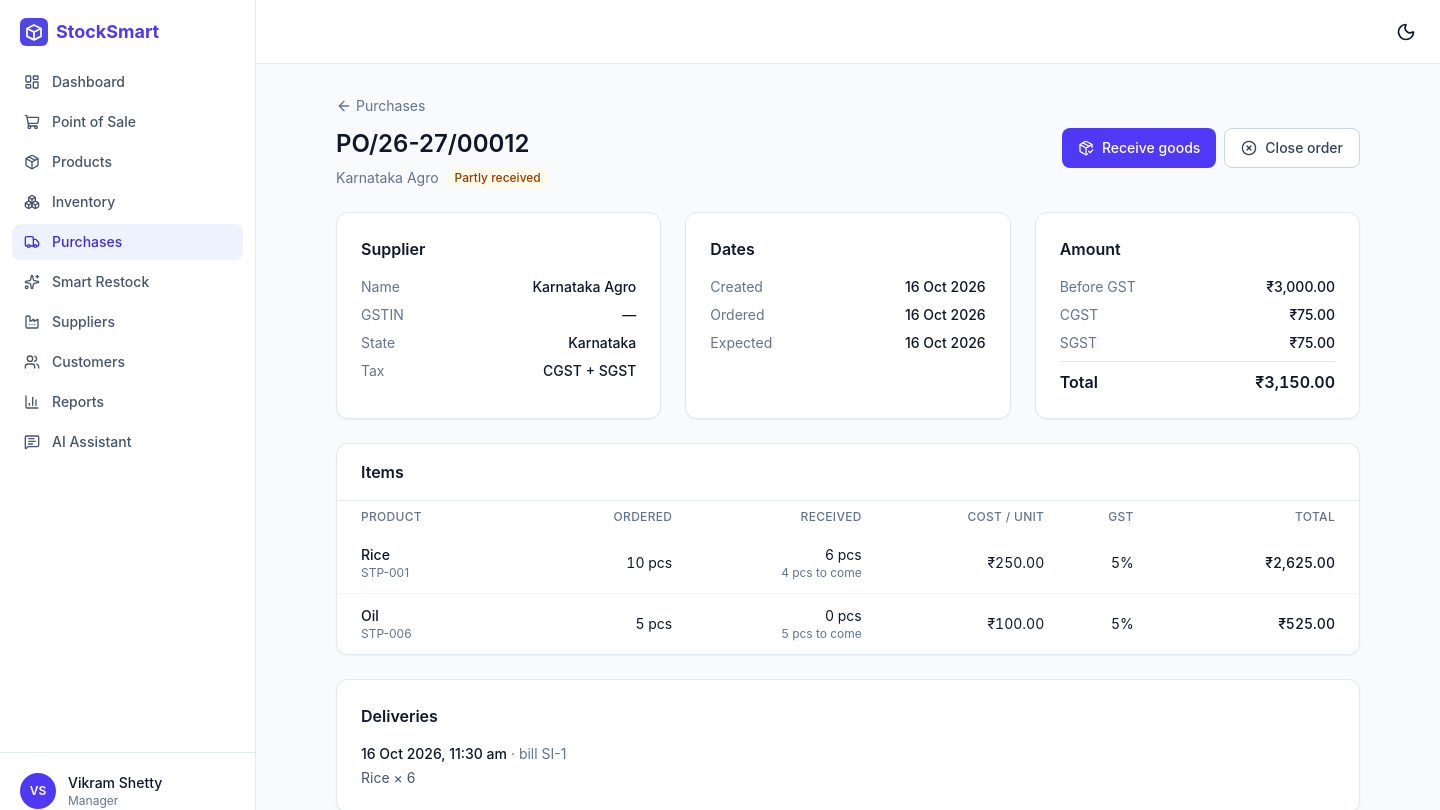
Purchase order page › will not receive more than is outstanding
Click the button "Receive goods" at [1139, 148], box [1062,128,1216,168]
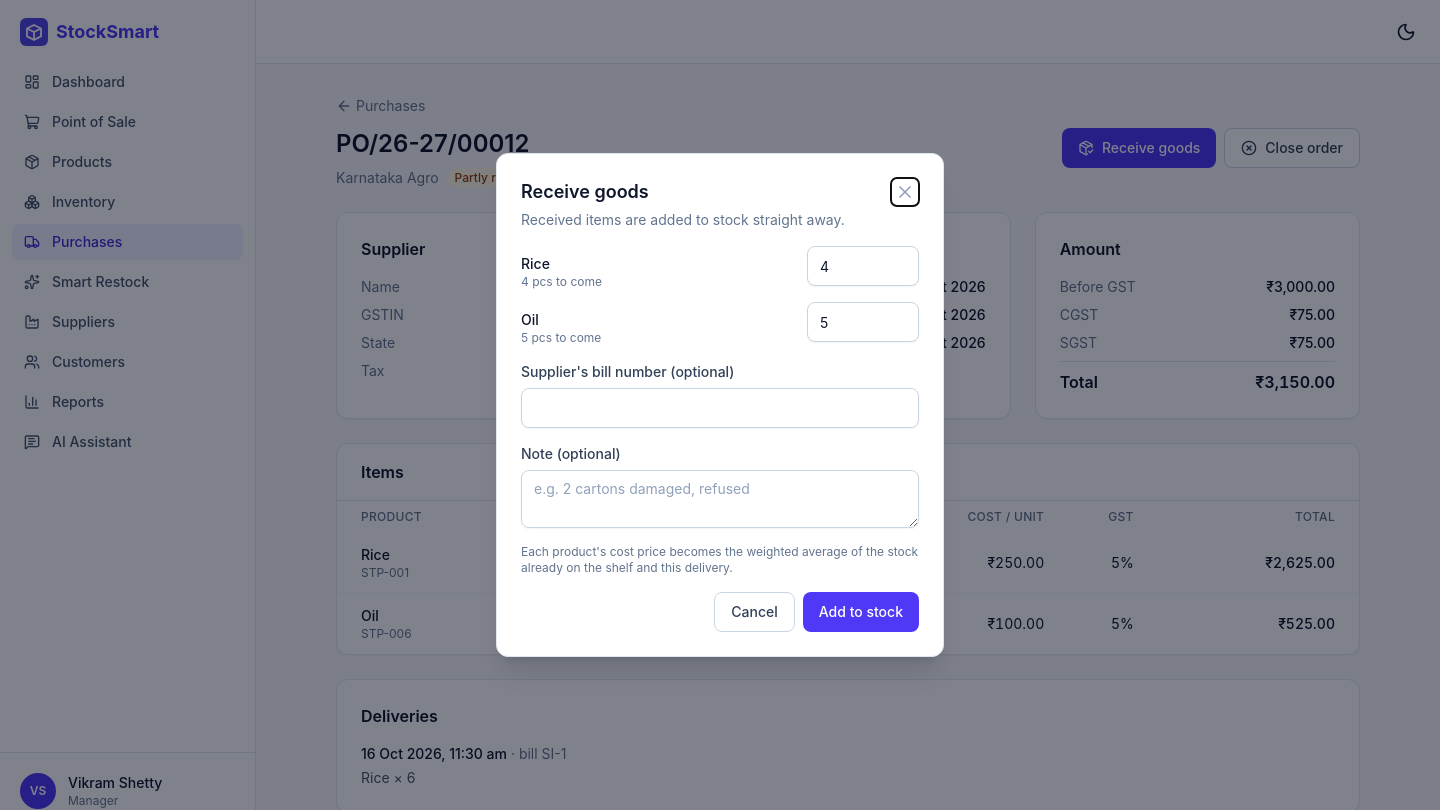
Replace the text in the field named "Received quantity of Rice" with "5" at [863, 266], box [807,246,919,286]
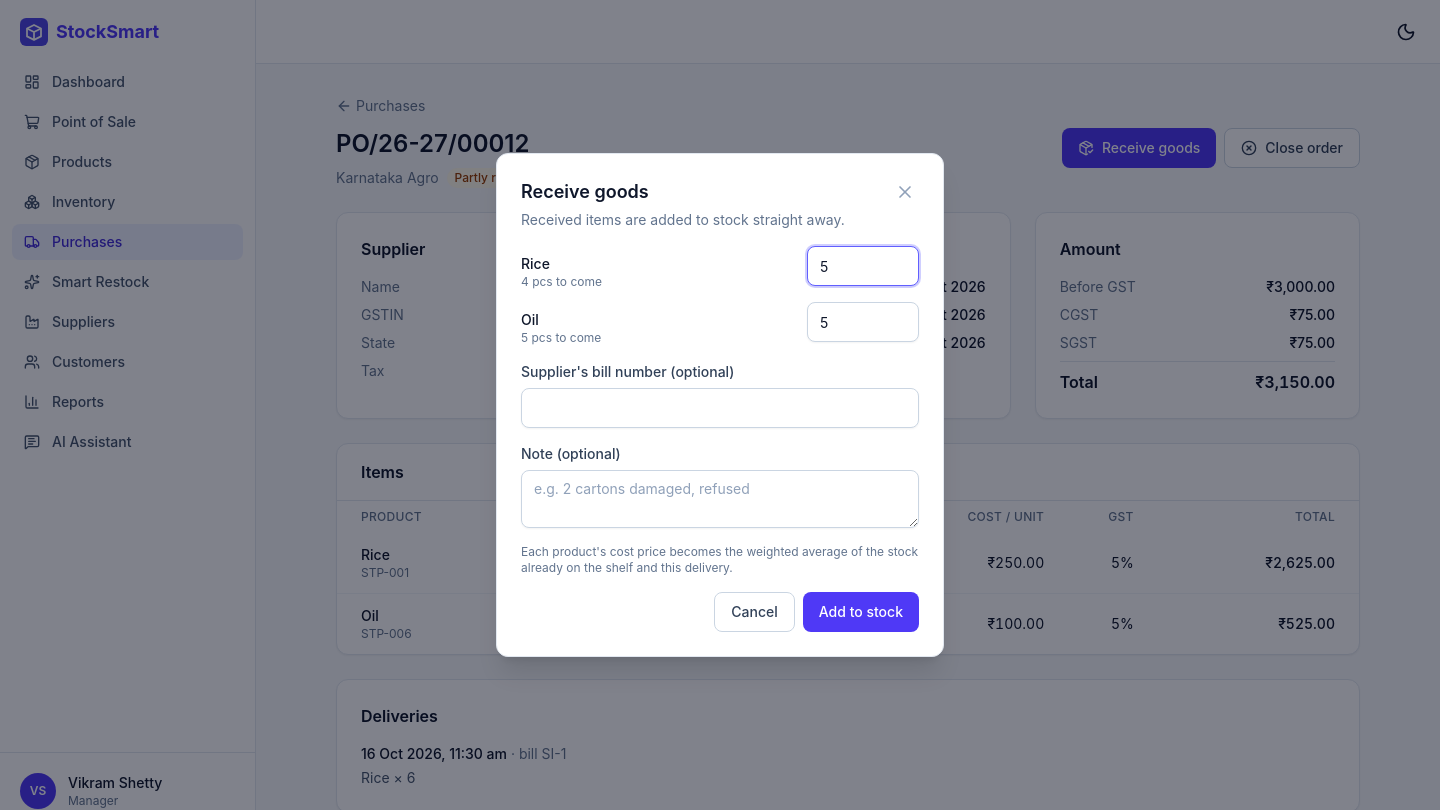
Click the button "Add to stock" at [861, 612], box [803,592,919,632]
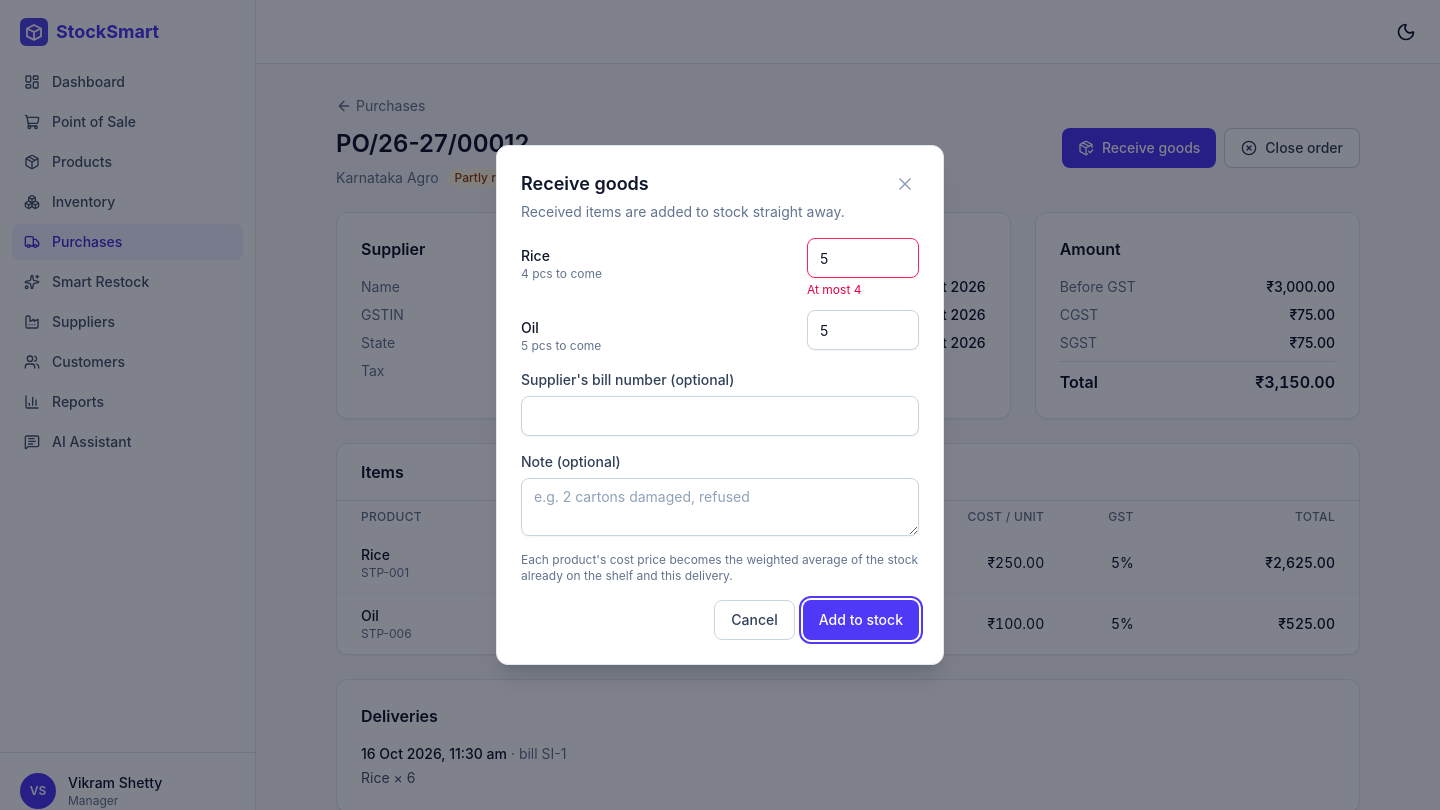
Expected: the text "At most 4" is shown, [807,282,862,297]
